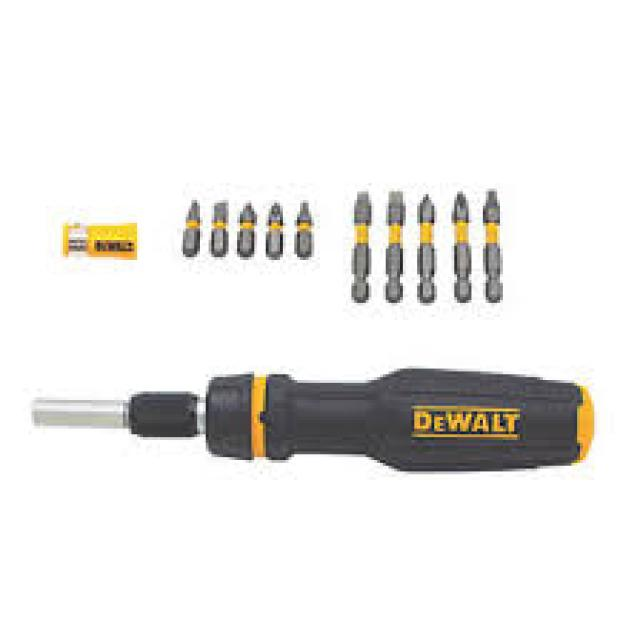screw driver: (8, 351, 640, 537)
